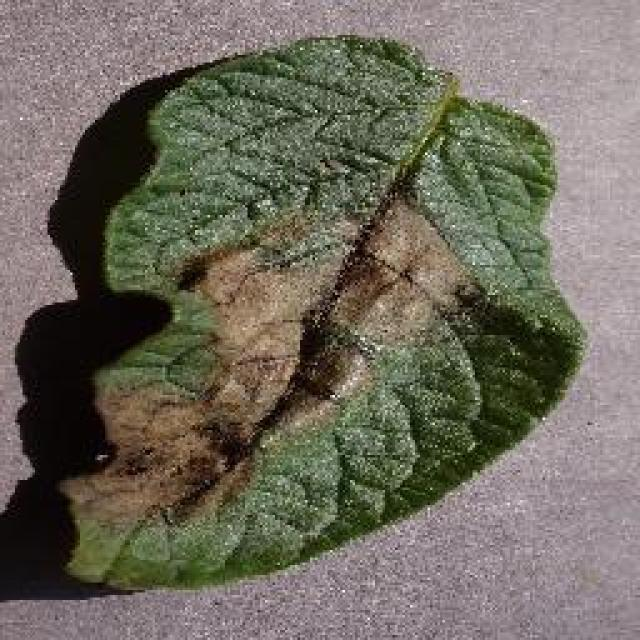Potato___Late_blight: (55, 34, 592, 594)
